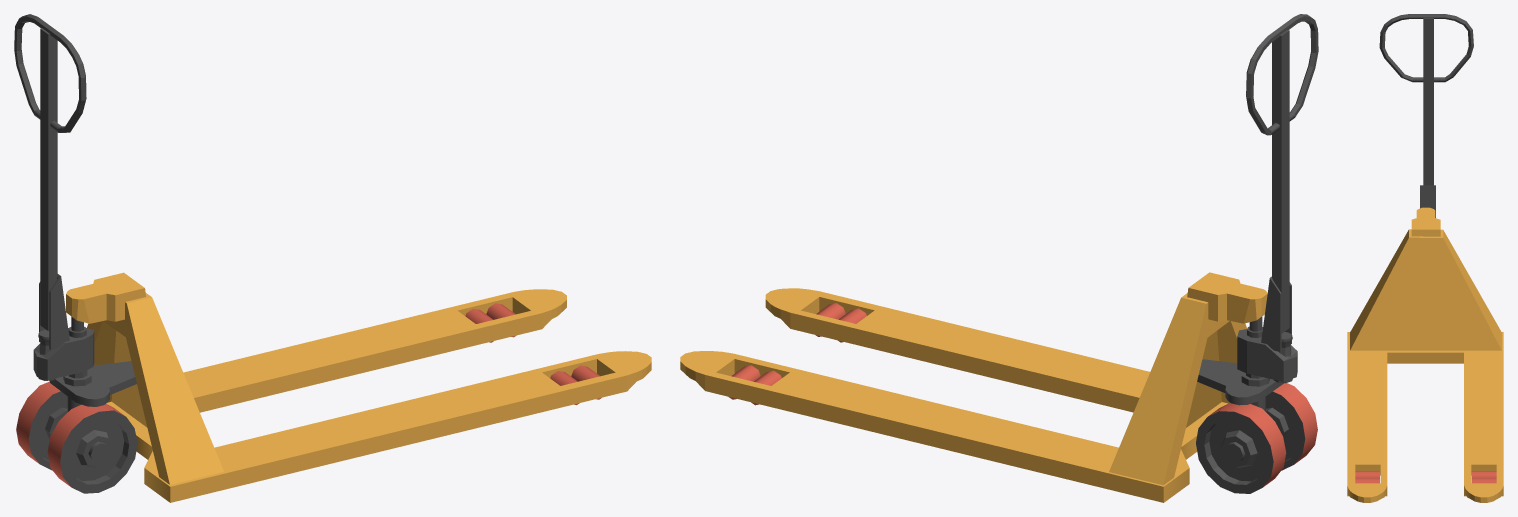
The model's file is SM_Forklift_02.fbx.
The picture shows the model from 3 angles, left to right: view 1: azimuth 30°, elevation 25°; view 2: azimuth 150°, elevation 25°; view 3: azimuth 270°, elevation 25°; orthographic projection. The views are drawn at different scales.
Parts seen in each view (by area): view 1: SM_Forklift_02; view 2: SM_Forklift_02; view 3: SM_Forklift_02.
Boxes of the visible parts, <box> form: SM_Forklift_02: <box>14,14,651,502</box>; SM_Forklift_02: <box>680,14,1318,502</box>; SM_Forklift_02: <box>1347,14,1503,502</box>.
Size of the model in its own units: 200 by 153 by 69.16.
